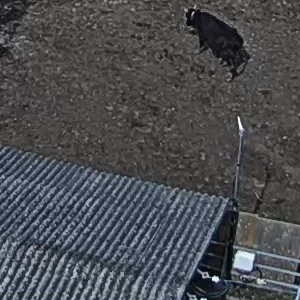cow: (180, 4, 255, 90)
